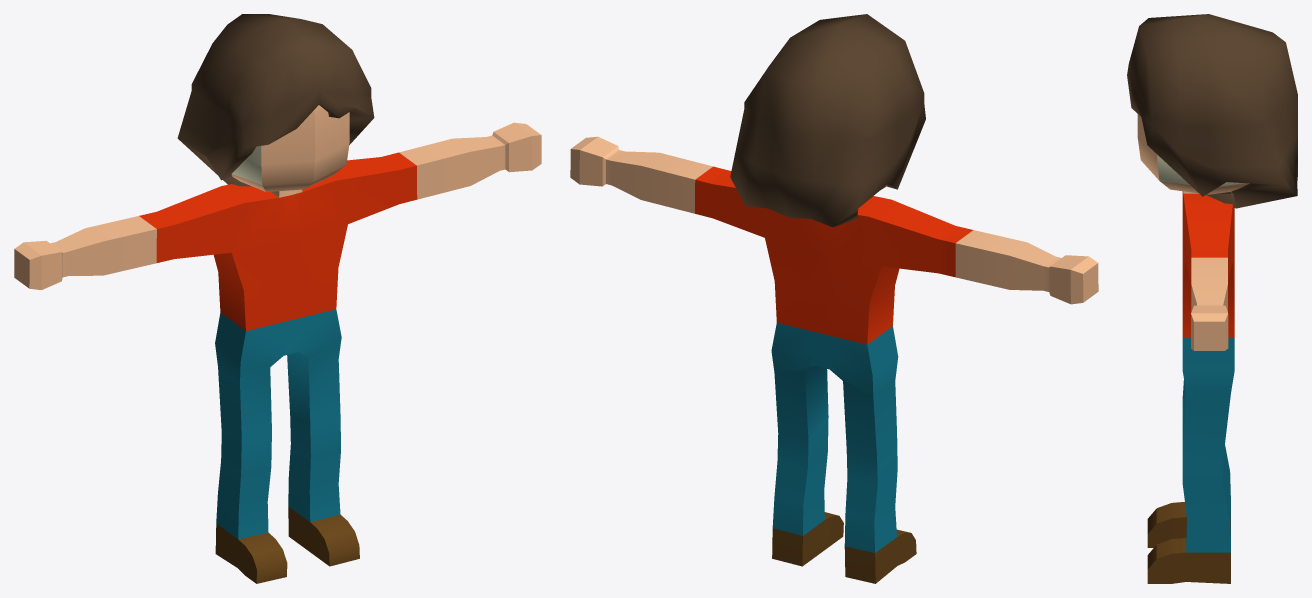
The model's file is CharacterShortcutRun.fbx.
The picture shows the model from 3 angles, left to right: view 1: azimuth 30°, elevation 25°; view 2: azimuth 150°, elevation 25°; view 3: azimuth 270°, elevation 25°; orthographic projection.
Visible parts, largest first — view 1: Body; view 2: Body; view 3: Body.
Part boxes in pixels (bbox=[...]): Body: bbox=[14, 14, 541, 583]; Body: bbox=[570, 14, 1098, 583]; Body: bbox=[1127, 14, 1297, 583].
Bounding box in the file's own units: 211 × 210 × 59.79.
